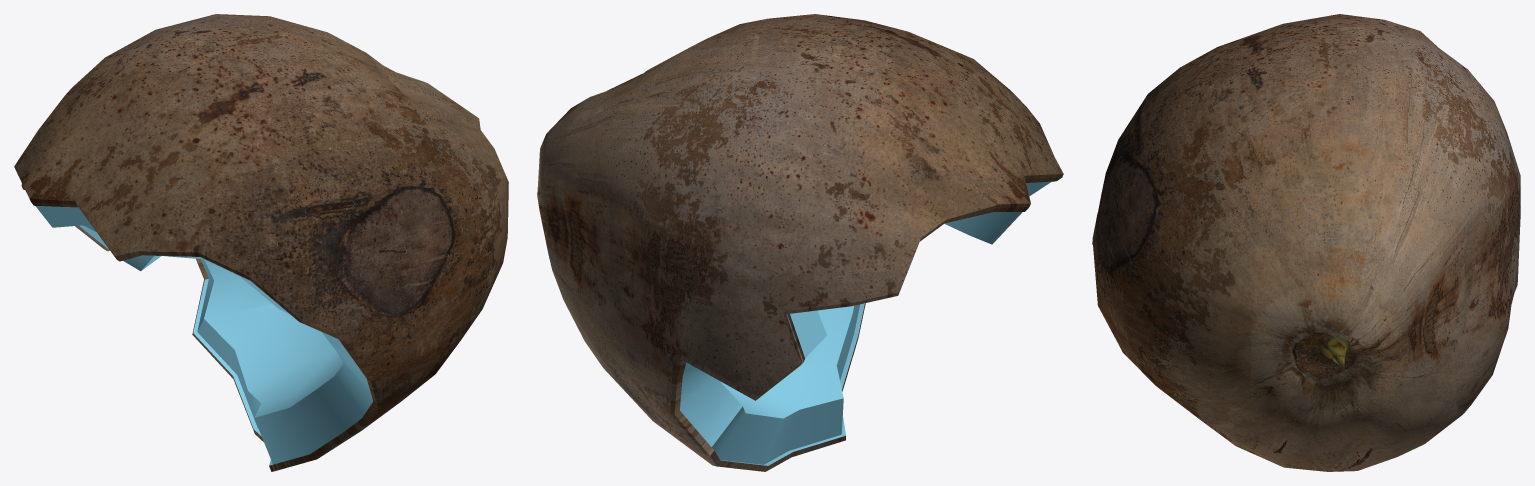
The model's file is SM_Coconut_1hourChallenge.fbx.
3 views of the same model, side by side, from view 1: azimuth 30°, elevation 25°; view 2: azimuth 150°, elevation 25°; view 3: azimuth 270°, elevation 25° (orthographic). The views are drawn at different scales.
Visible parts, largest first — view 1: Object002, Object001; view 2: Object002, Object001; view 3: Object001, Object002.
Boxes of the visible parts, x1=… form: Object002: x1=14, y1=14, x2=381, y2=342; Object001: x1=192, y1=14, x2=508, y2=471; Object002: x1=677, y1=14, x2=1063, y2=400; Object001: x1=537, y1=18, x2=865, y2=471; Object001: x1=1092, y1=59, x2=1520, y2=471; Object002: x1=1092, y1=14, x2=1520, y2=303.
Size of what is drawn, in the model's own units: 0.1874 by 0.1617 by 0.1542.
